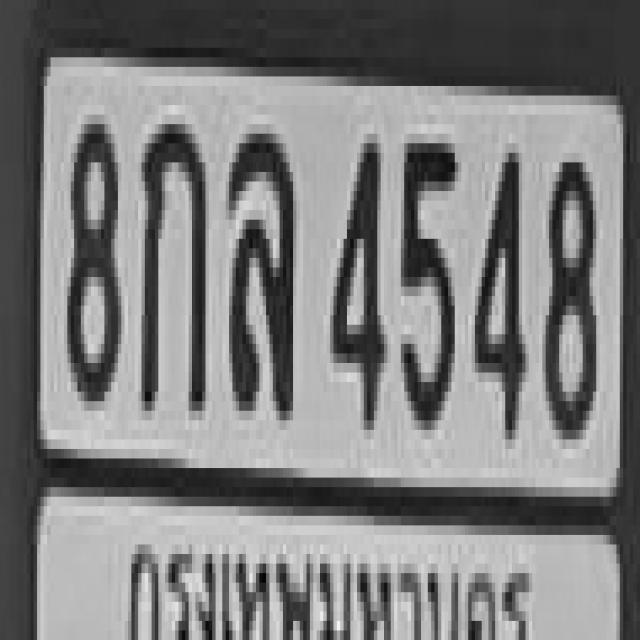10GorGai: (138, 115, 202, 401)
4: (326, 124, 381, 420), (472, 143, 522, 430)
45LorLing: (224, 124, 291, 401)
5: (397, 134, 455, 420)
8: (64, 115, 118, 392), (542, 153, 593, 430)
